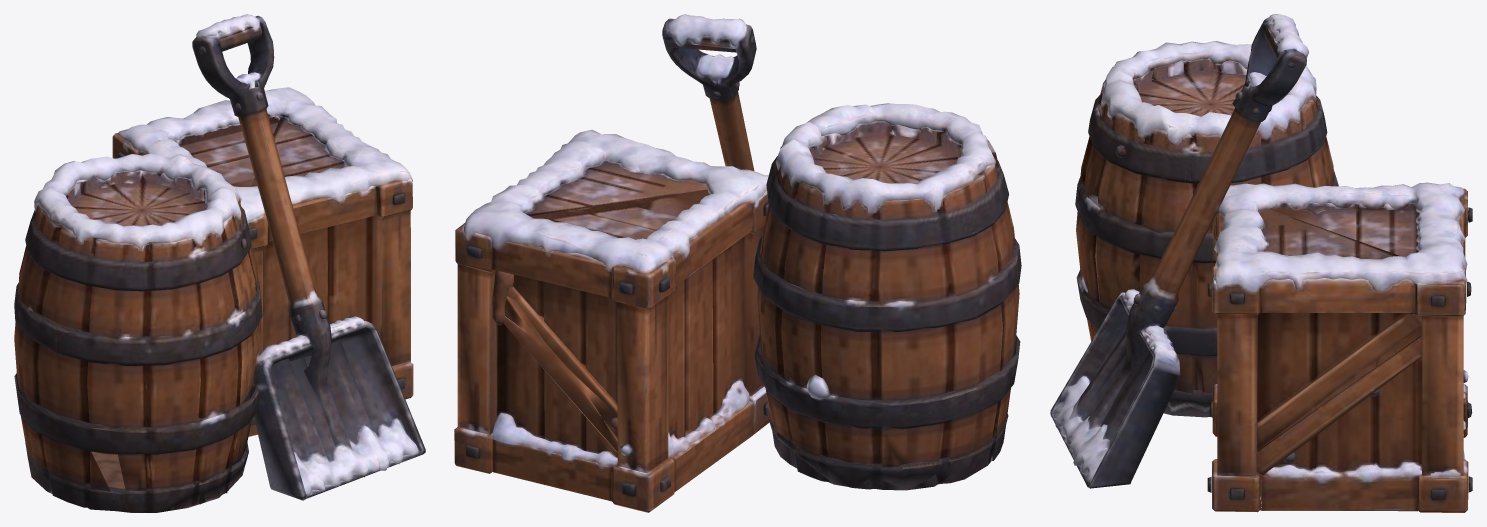
File: HK_barrel_crate.glb
The picture shows the model from 3 angles, left to right: view 1: azimuth 30°, elevation 25°; view 2: azimuth 150°, elevation 25°; view 3: azimuth 270°, elevation 25°; orthographic projection. The views are drawn at different scales.
Bounding box in the file's own units: 0.9575 × 0.9141 × 0.8516.
Materials: 1 (1 with a texture image).
